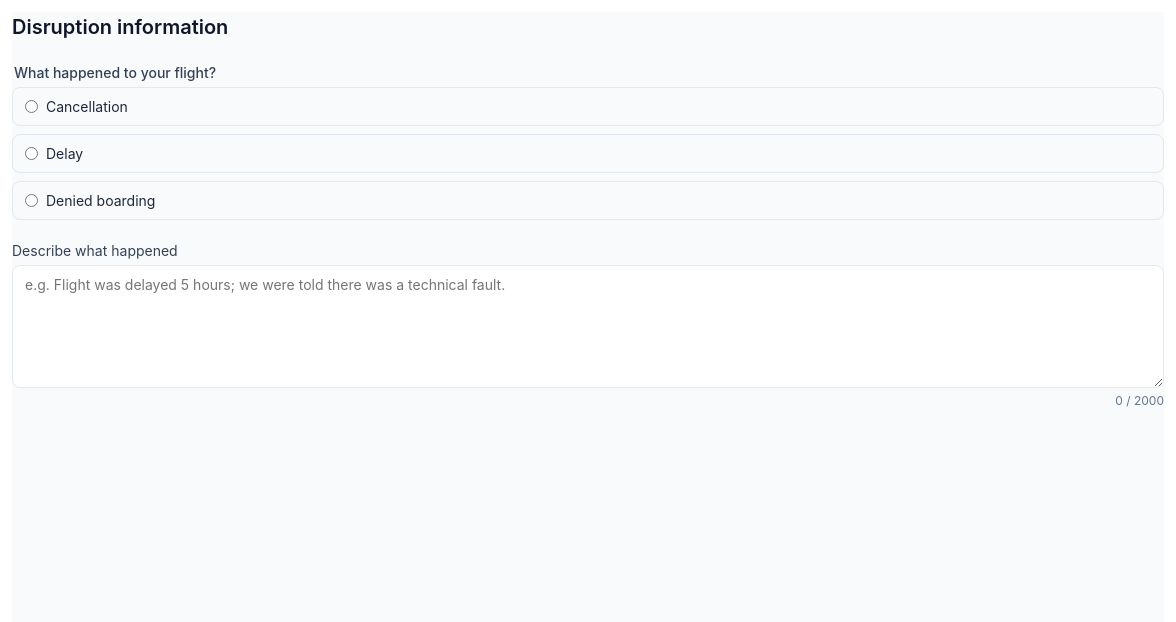
DisruptionInfoSection › reveals delay duration when DELAY is picked
Click the radio button labelled "Delay": (32, 154) [25,147,38,160]
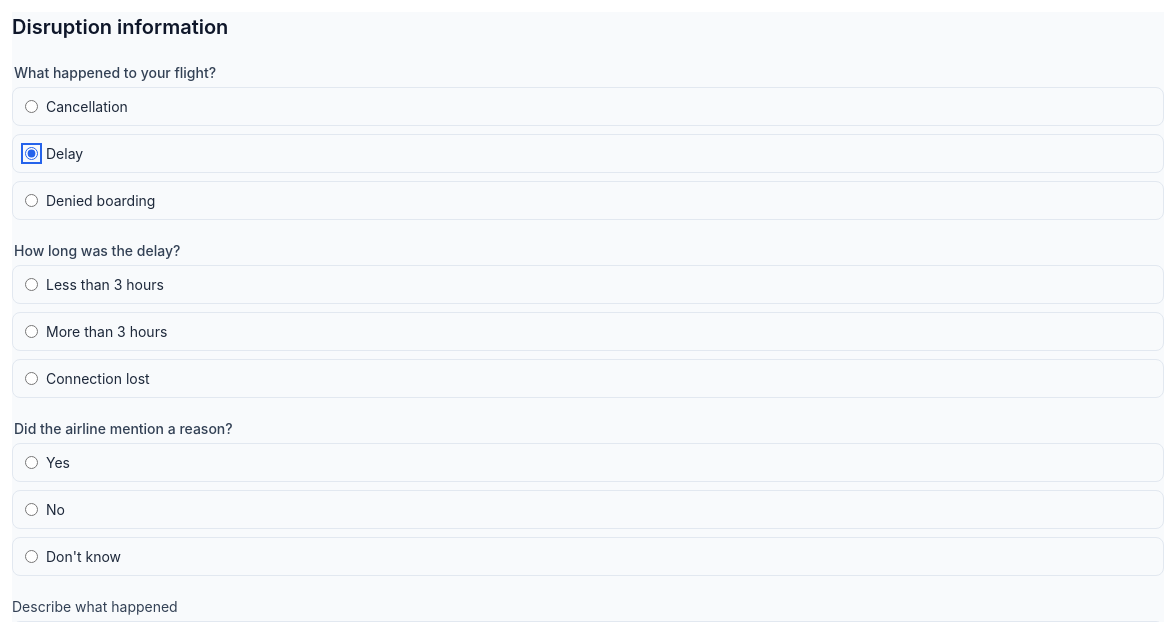
Now the text "How long was the delay?" is shown, box [12,240,182,261]
Now the radio button labelled "More than 3 hours" is shown, box [25,325,38,338]
